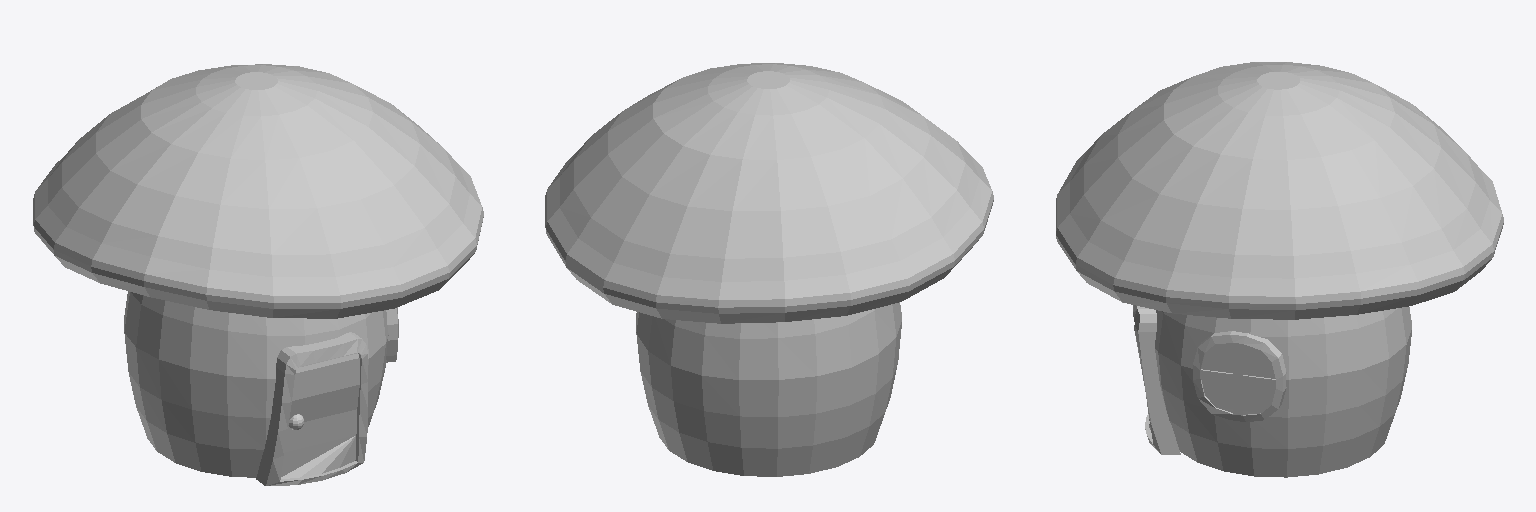
Rendered from Mushroom HouseOBJ.obj.
The picture shows the model from 3 angles: view 1: azimuth 30°, elevation 25°; view 2: azimuth 150°, elevation 25°; view 3: azimuth 270°, elevation 25°; orthographic projection.
Visible parts, largest first — view 1: Cylinder_MUSHROOM_0, Cube_DOOR_0, Cube.001_window_0; view 2: Cylinder_MUSHROOM_0; view 3: Cylinder_MUSHROOM_0, Cube.001_window_0, Cube.001_glass_0, Cube_DOOR_0.
Part boxes in pixels (x1,y1,x2,y2): Cylinder_MUSHROOM_0: (33, 64, 483, 477); Cube_DOOR_0: (256, 332, 367, 485); Cube.001_window_0: (386, 307, 398, 362); Cylinder_MUSHROOM_0: (545, 63, 993, 476); Cylinder_MUSHROOM_0: (1056, 62, 1503, 477); Cube.001_window_0: (1193, 331, 1286, 421); Cube.001_glass_0: (1201, 343, 1275, 414); Cube_DOOR_0: (1133, 305, 1180, 454).
Bounding box in the file's own units: 0.4048 × 0.348 × 0.4036.